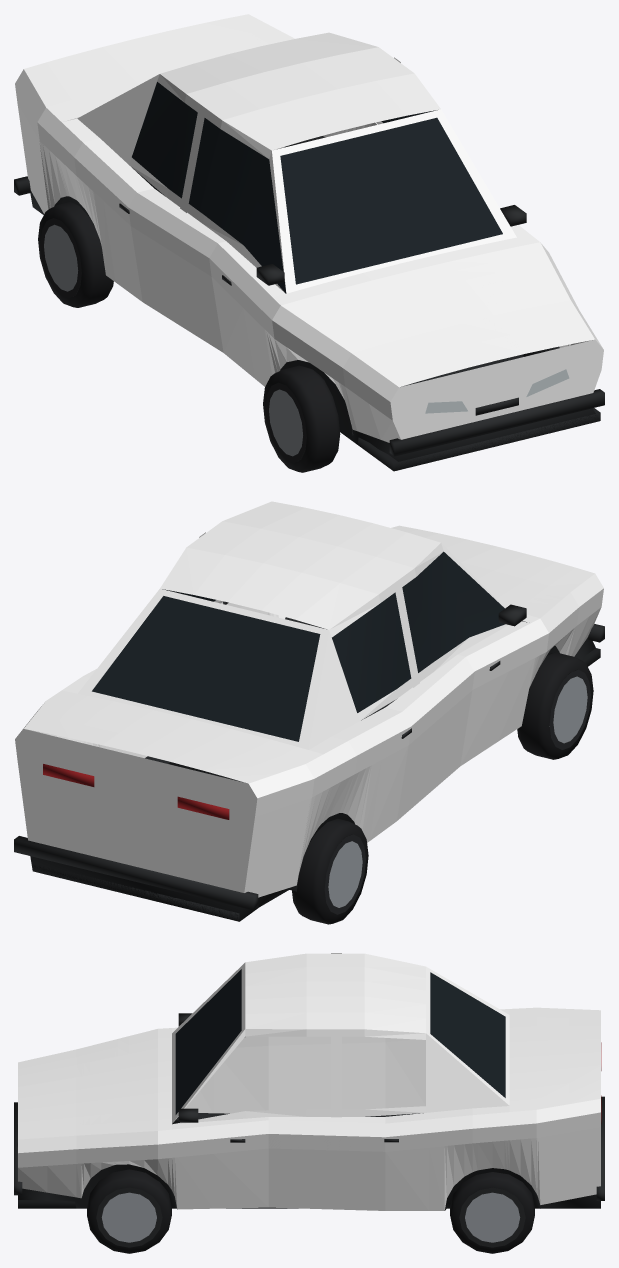
Rendered from morel_talisca.glb.
3 views of the same model, one above another, from view 1: azimuth 30°, elevation 25°; view 2: azimuth 150°, elevation 25°; view 3: azimuth 270°, elevation 25° (orthographic). The views are drawn at different scales.
Parts seen in each view (by area): view 1: Body_Paint, Body_Details, Mount_FrontLeft_Wheel_Details, Mount_RearLeft_Wheel_Details; view 2: Body_Paint, Body_Details, Mount_FrontLeft_Wheel_Details, Mount_RearLeft_Wheel_Details; view 3: Body_Paint, Body_Details, Mount_FrontRight_Wheel_Details, Mount_RearRight_Wheel_Details.
Boxes of the visible parts, x1,y1,x2,y2 form: Body_Paint: (15, 14, 603, 442); Body_Details: (14, 82, 604, 471); Mount_FrontLeft_Wheel_Details: (263, 365, 340, 472); Mount_RearLeft_Wheel_Details: (38, 202, 113, 307); Body_Paint: (15, 501, 603, 897); Body_Details: (14, 551, 604, 921); Mount_FrontLeft_Wheel_Details: (517, 652, 593, 759); Mount_RearLeft_Wheel_Details: (292, 818, 368, 924); Body_Paint: (18, 953, 600, 1210); Body_Details: (14, 969, 604, 1210); Mount_FrontRight_Wheel_Details: (87, 1169, 171, 1253); Mount_RearRight_Wheel_Details: (450, 1172, 534, 1253).
Bounding box in the file's own units: 1.77 × 1.56 × 3.95.
2 materials, 1 textured.
